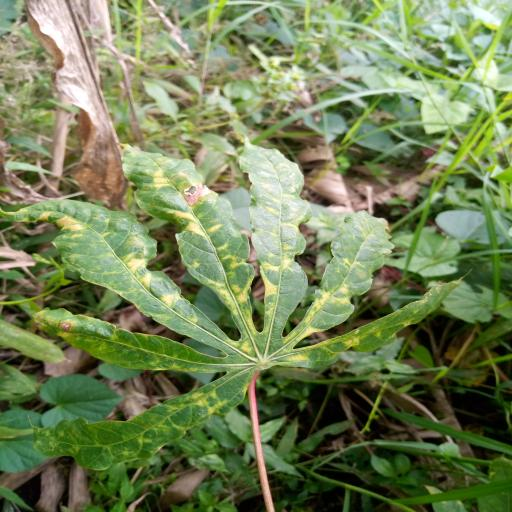Cassava_Mosaic: (28, 144, 446, 474)
